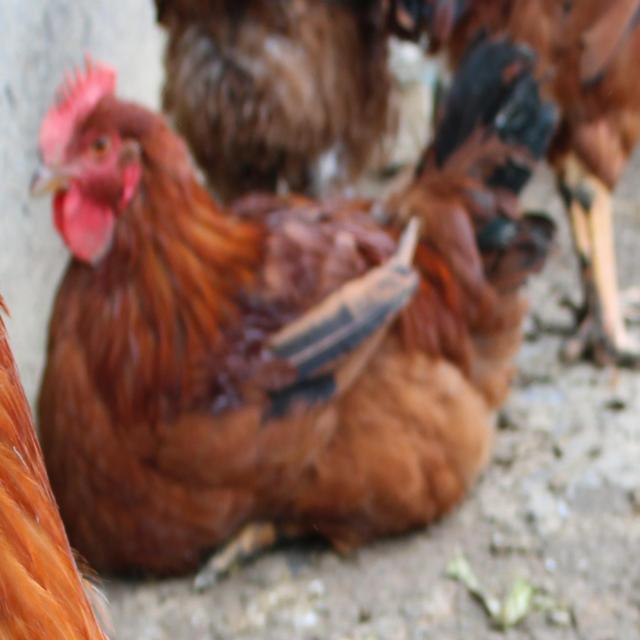cook: (0, 53, 569, 638)
